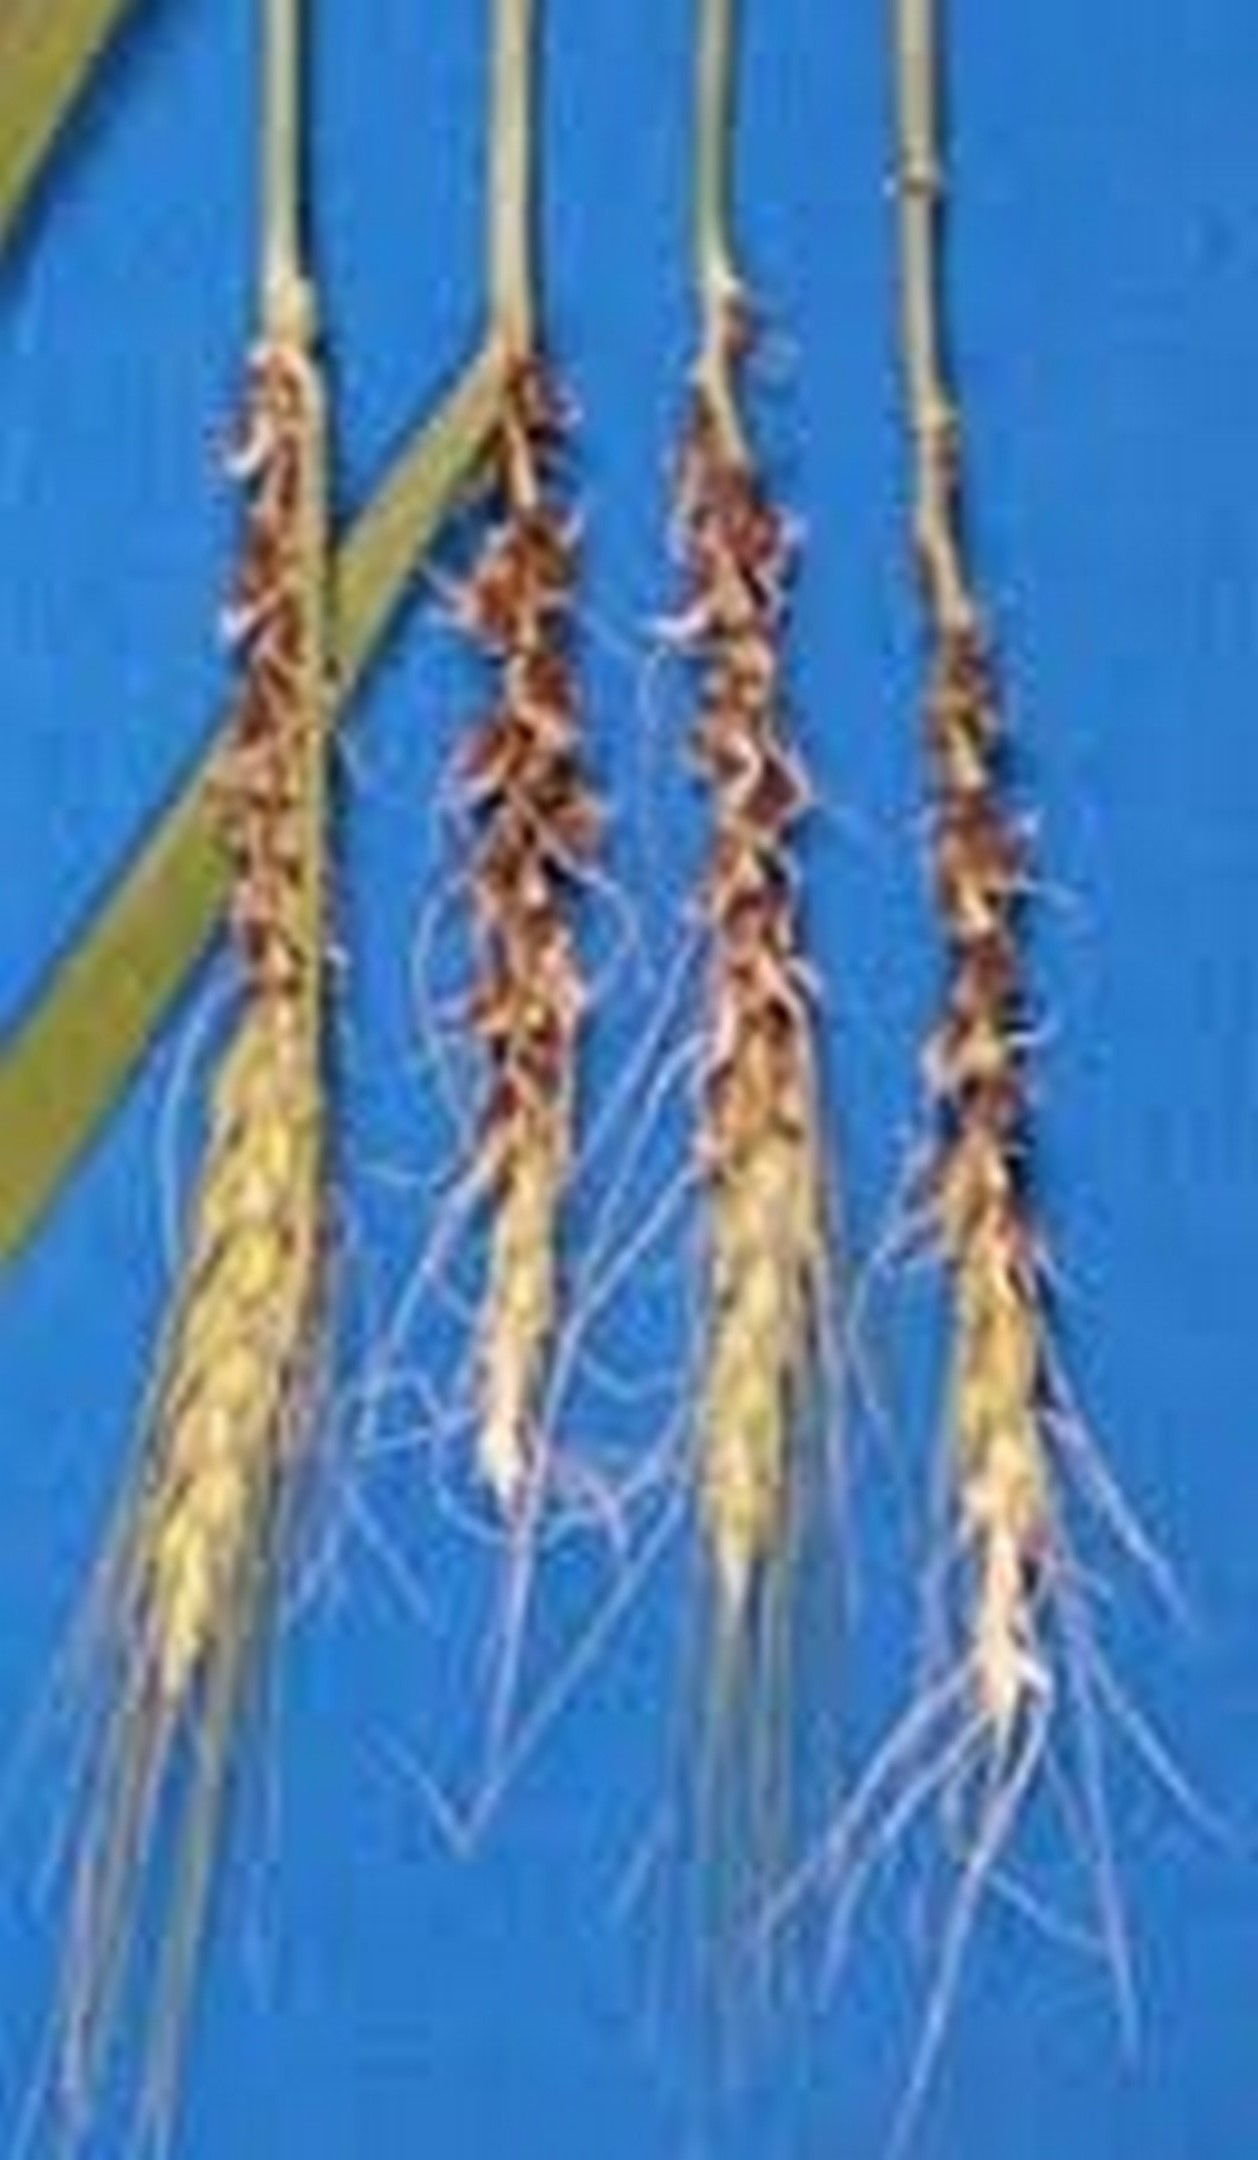Wheat Loose Smut: (160, 322, 1146, 1578)
